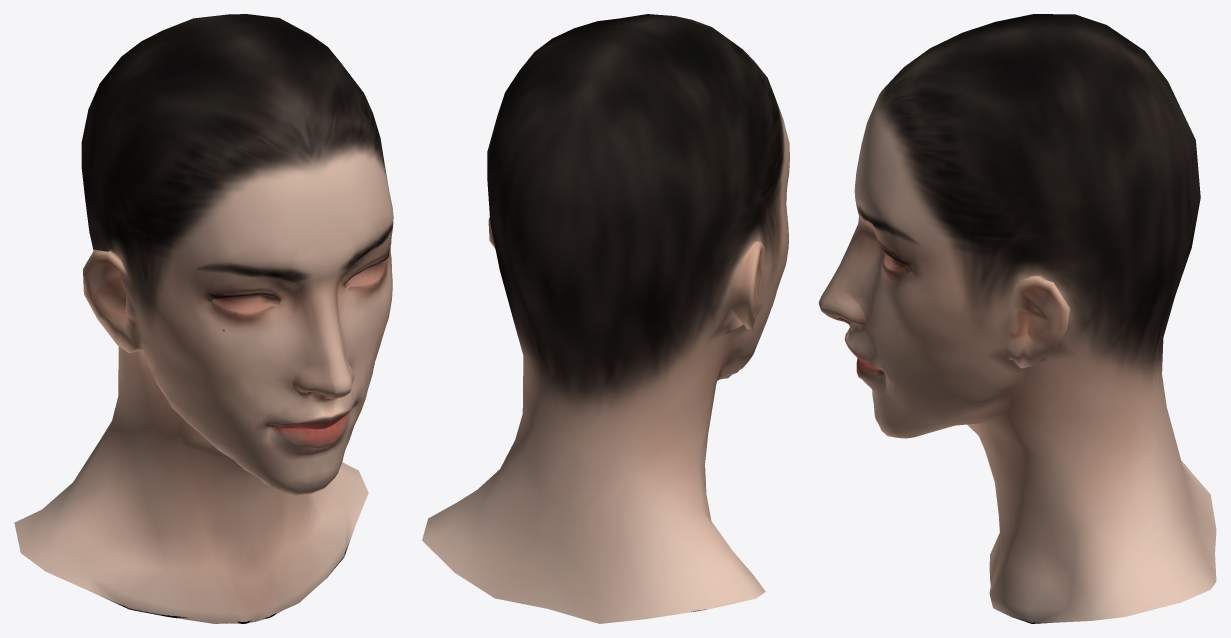
File: baiyu.glb
3 renders of one model, left to right at view 1: azimuth 30°, elevation 25°; view 2: azimuth 150°, elevation 25°; view 3: azimuth 270°, elevation 25°, orthographic. The views are drawn at different scales.
Visible parts, largest first — view 1: Wolf3D_Head; view 2: Wolf3D_Head; view 3: Wolf3D_Head.
Part boxes in pixels (x1,y1,x2,y2): Wolf3D_Head: [14, 14, 393, 623]; Wolf3D_Head: [422, 14, 789, 623]; Wolf3D_Head: [818, 14, 1216, 623].
Bounding box in the file's own units: 0.1892 × 0.3071 × 0.1954.
1 material, 1 textured.
